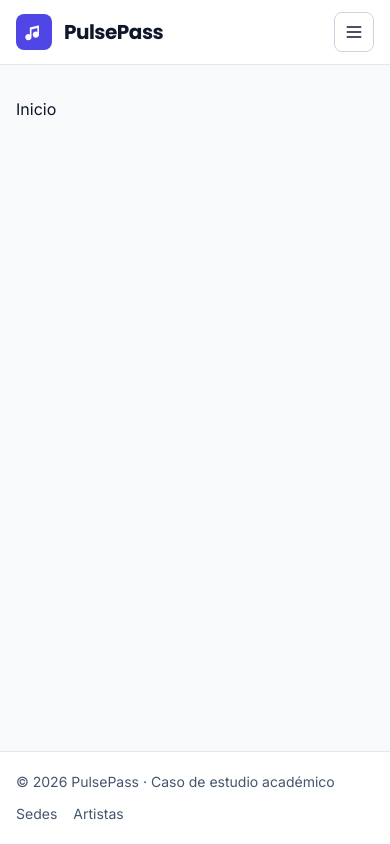
Test: TEST-FE-GEN: errores, navegación y accesibilidad › TEST-FE-GEN-004 abre el menú móvil y lo cierra con Escape y con navegación
This screenshot has width=390, height=844.
Click the button named "Abrir menú": (354, 32) [334, 12, 374, 52]
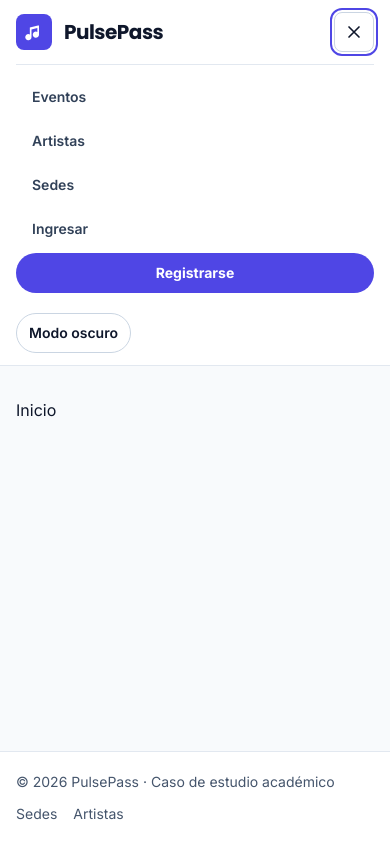
expect the button named "Abrir menú" is expanded: met, box [334, 12, 374, 52]
expect the number of navigation bars "Principal" is 2: met
Press Escape
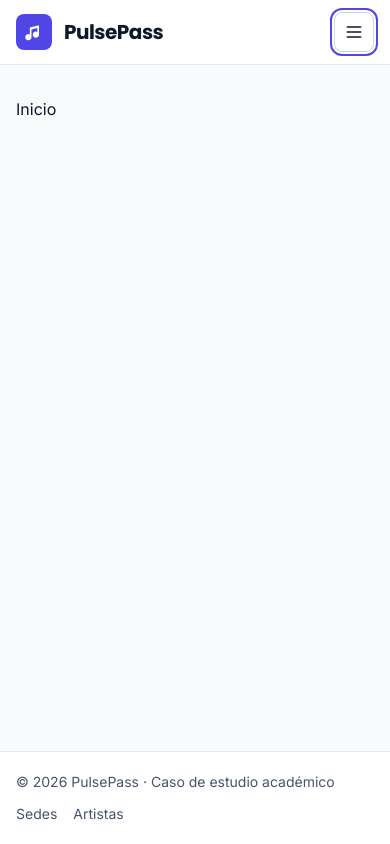
expect the button named "Abrir menú" is collapsed: met
Click the button named "Abrir menú": (354, 32) [334, 12, 374, 52]
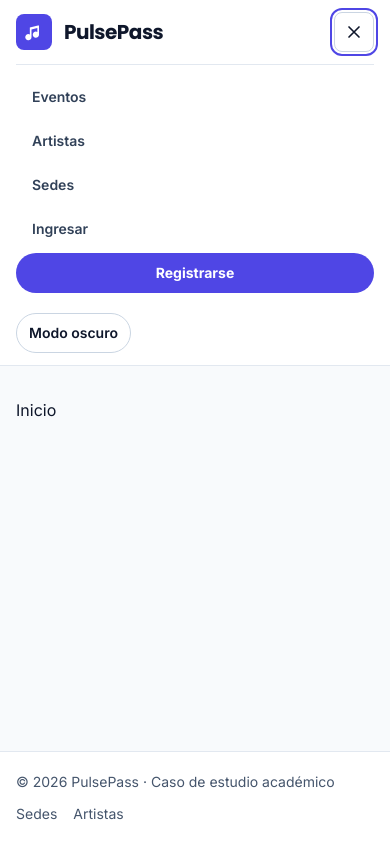
Click the link "Eventos": (59, 96) [32, 88, 86, 105]
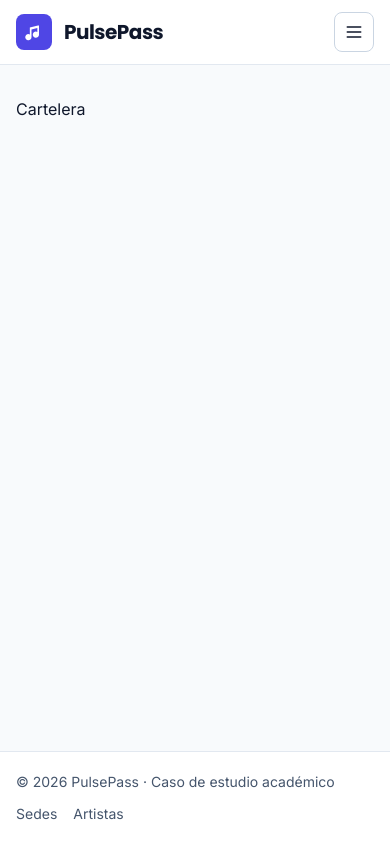
expect the heading "Cartelera" is shown: met, box [16, 99, 86, 119]
expect the button named "Abrir menú" is collapsed: met, box [334, 12, 374, 52]
